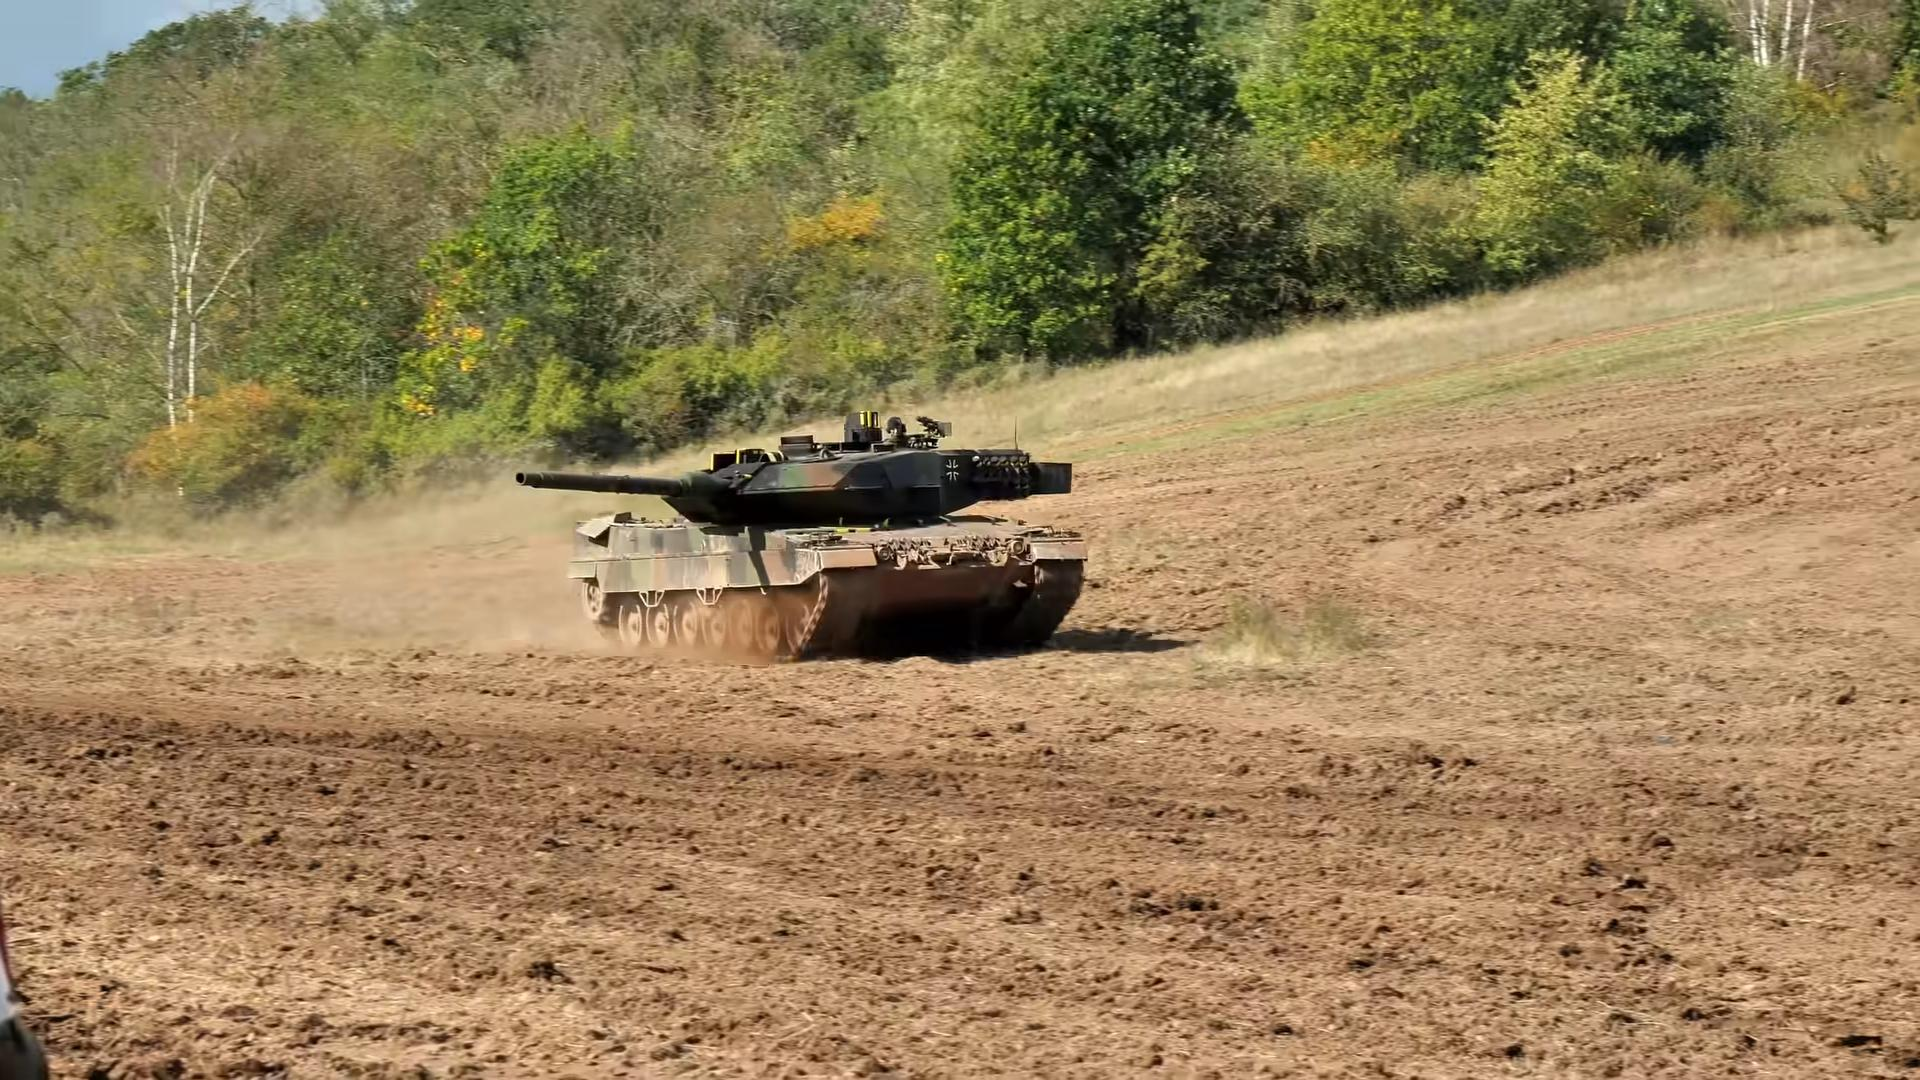tank: (515, 412, 1090, 661)
